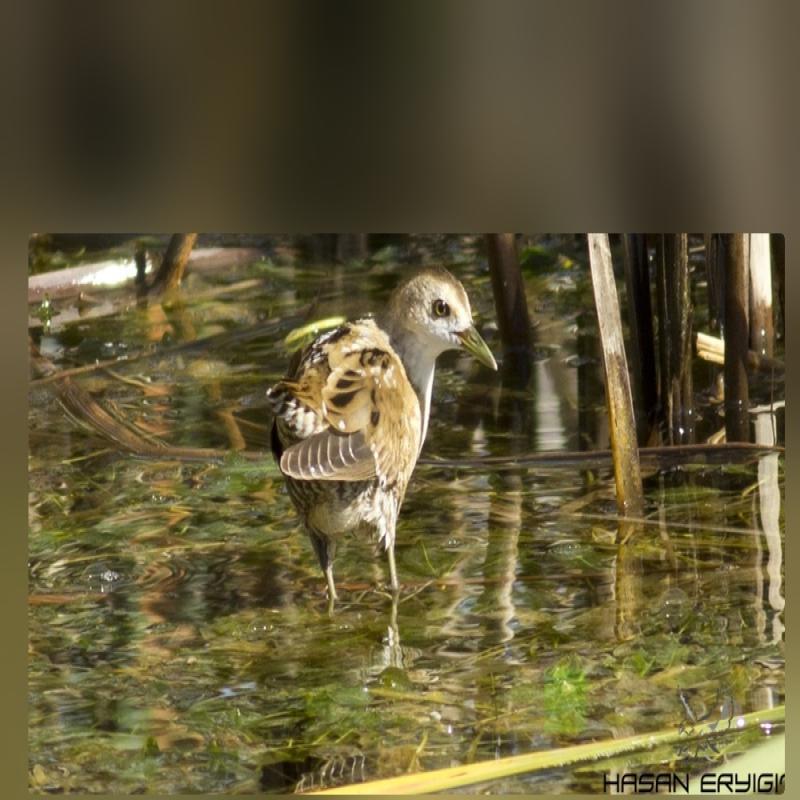little crake: (238, 253, 501, 598)
